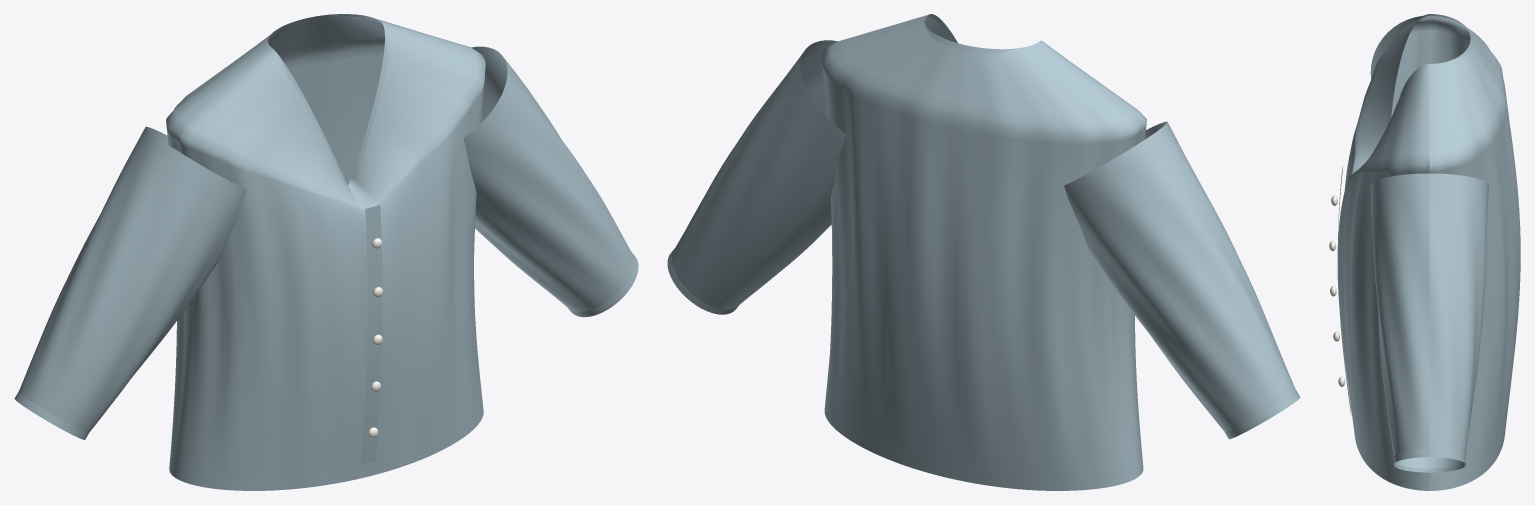
Rendered from pearl_blouse_smoky-blue.glb.
3 views of the same model, side by side, from view 1: azimuth 30°, elevation 25°; view 2: azimuth 150°, elevation 25°; view 3: azimuth 270°, elevation 25° (orthographic). The views are drawn at different scales.
Parts seen in each view (by area): view 1: Draped blouse body, Right eight-length sleeve, Left eight-length sleeve, Front button placket, V neck binding, Right cuff seam; view 2: Draped blouse body, Right eight-length sleeve, Left eight-length sleeve, Right cuff seam; view 3: Draped blouse body, Left eight-length sleeve, Left cuff seam, Right eight-length sleeve, V neck binding.
Part boxes in pixels (x1,y1,x2,y2): Draped blouse body: (166, 14, 485, 490); Right eight-length sleeve: (19, 126, 247, 432); Left eight-length sleeve: (463, 46, 634, 311); Front button placket: (360, 205, 382, 464); V neck binding: (267, 14, 388, 180); Right cuff seam: (14, 391, 88, 439); Draped blouse body: (822, 14, 1146, 490); Right eight-length sleeve: (1064, 121, 1295, 431); Left eight-length sleeve: (671, 40, 845, 309); Right cuff seam: (1225, 390, 1300, 439); Draped blouse body: (1337, 16, 1520, 490); Left eight-length sleeve: (1370, 173, 1488, 468); Left cuff seam: (1393, 449, 1465, 472); Right eight-length sleeve: (1370, 15, 1423, 117); V neck binding: (1387, 14, 1473, 124).
Bounding box in the file's own units: 1.02 × 0.654 × 0.2916.
